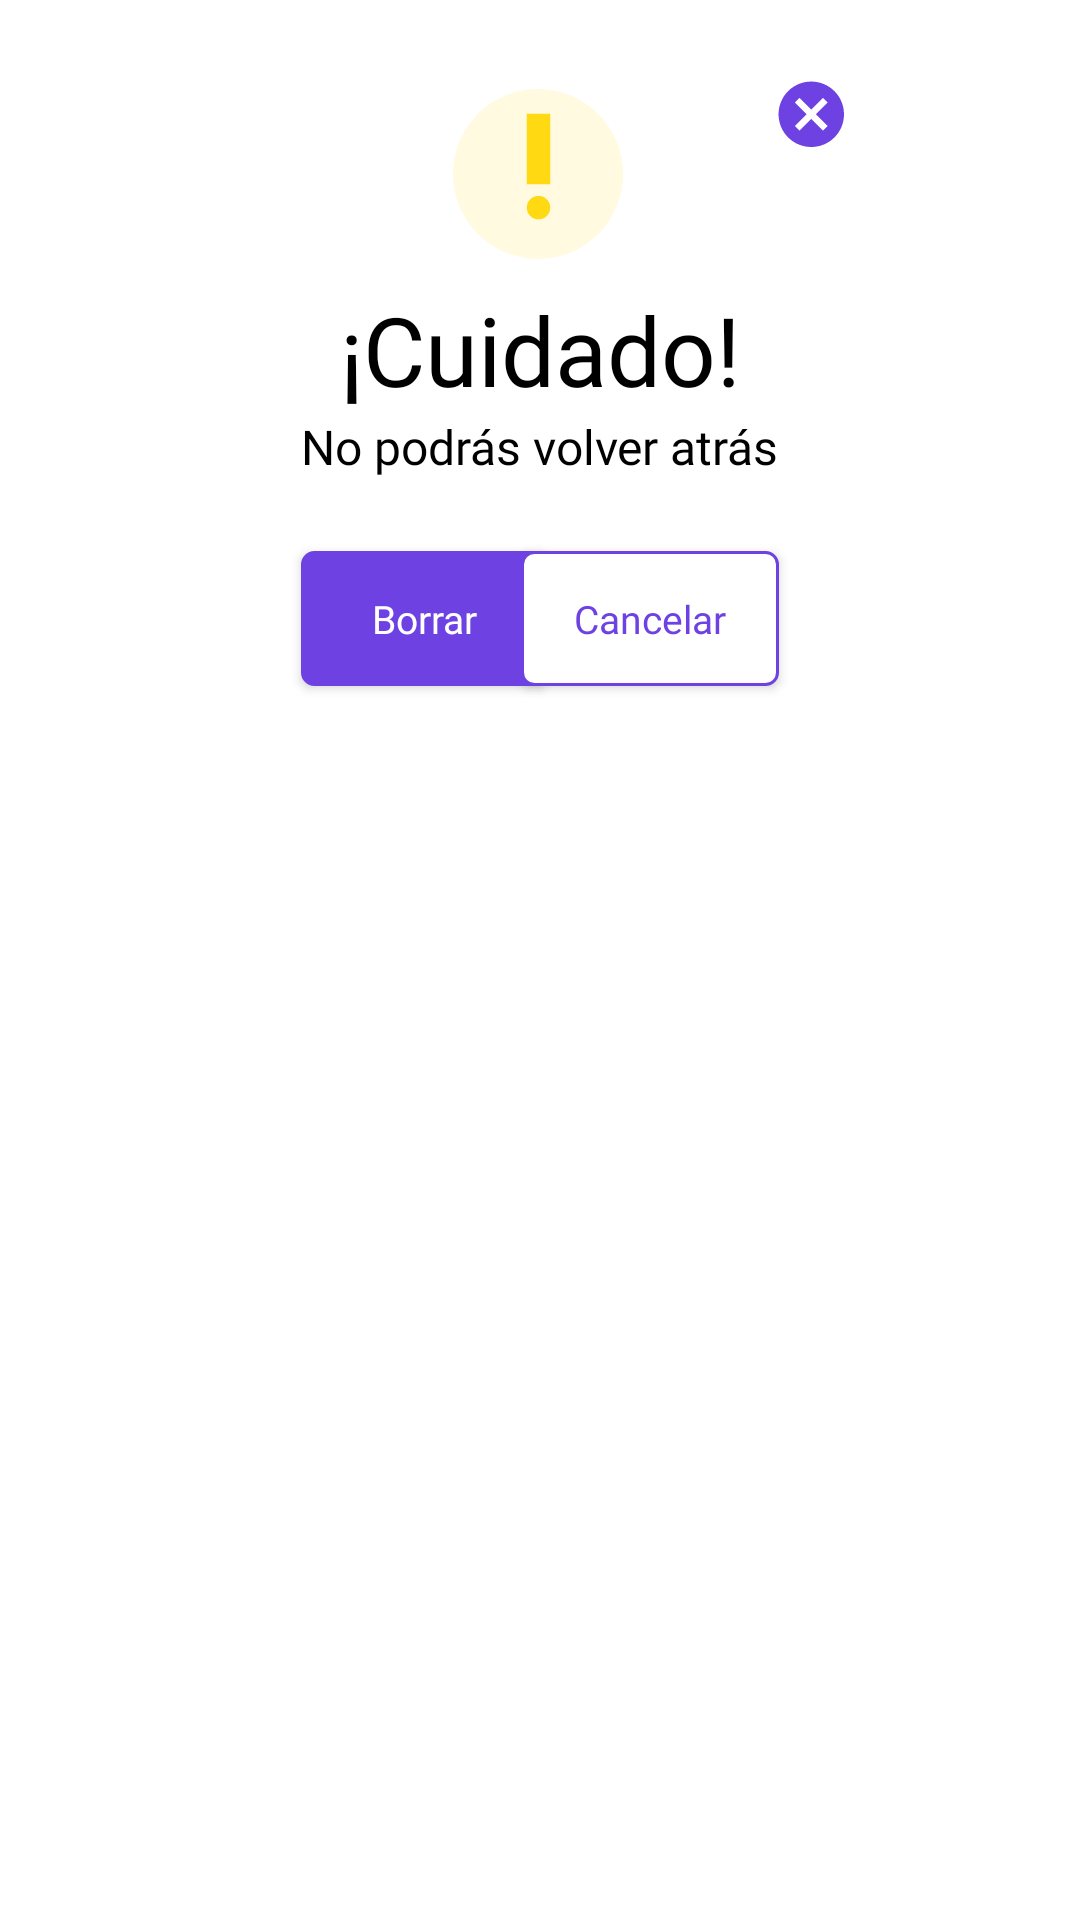

Icons on this 1080×1920 Android screen, each with the point to tap as point (x, y):
cancel: point (811, 114)
